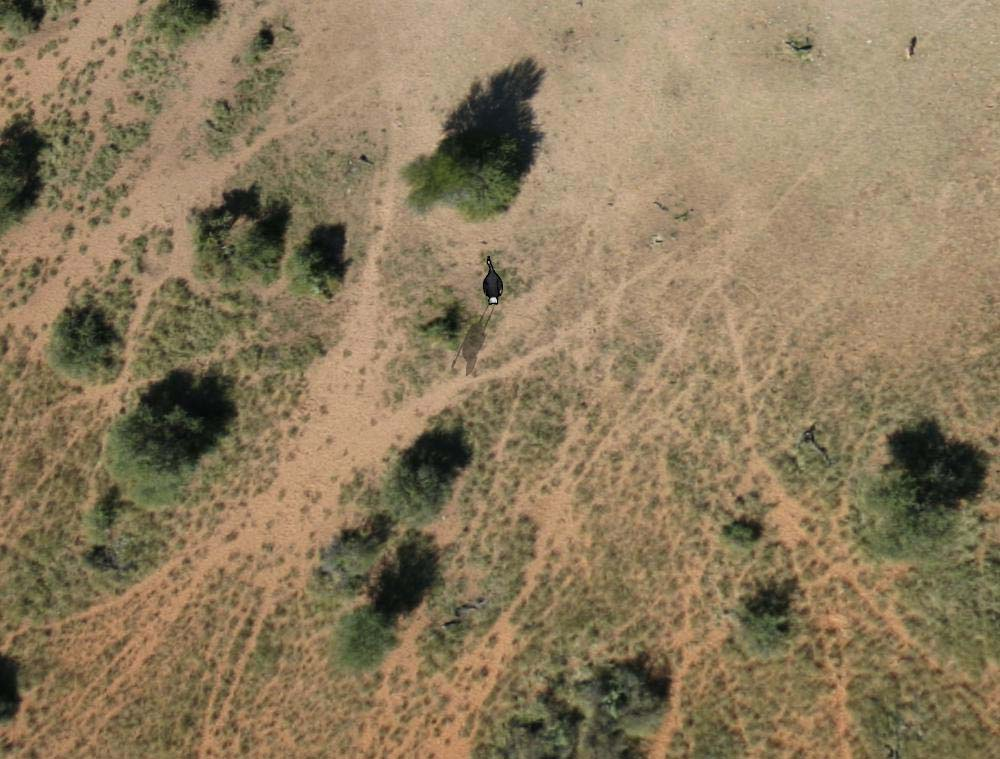springbok: (477, 254, 507, 307)
